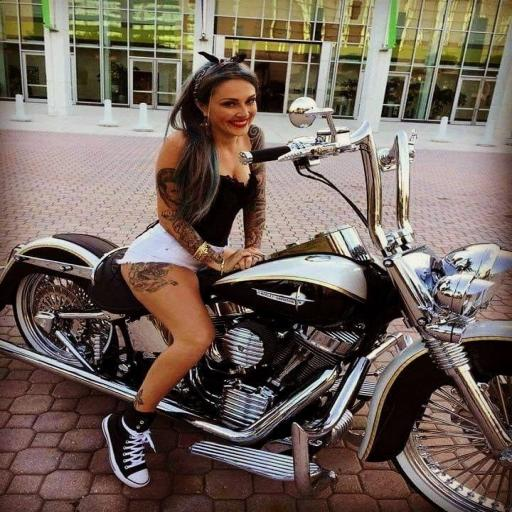helmet: (100, 50, 270, 488)
